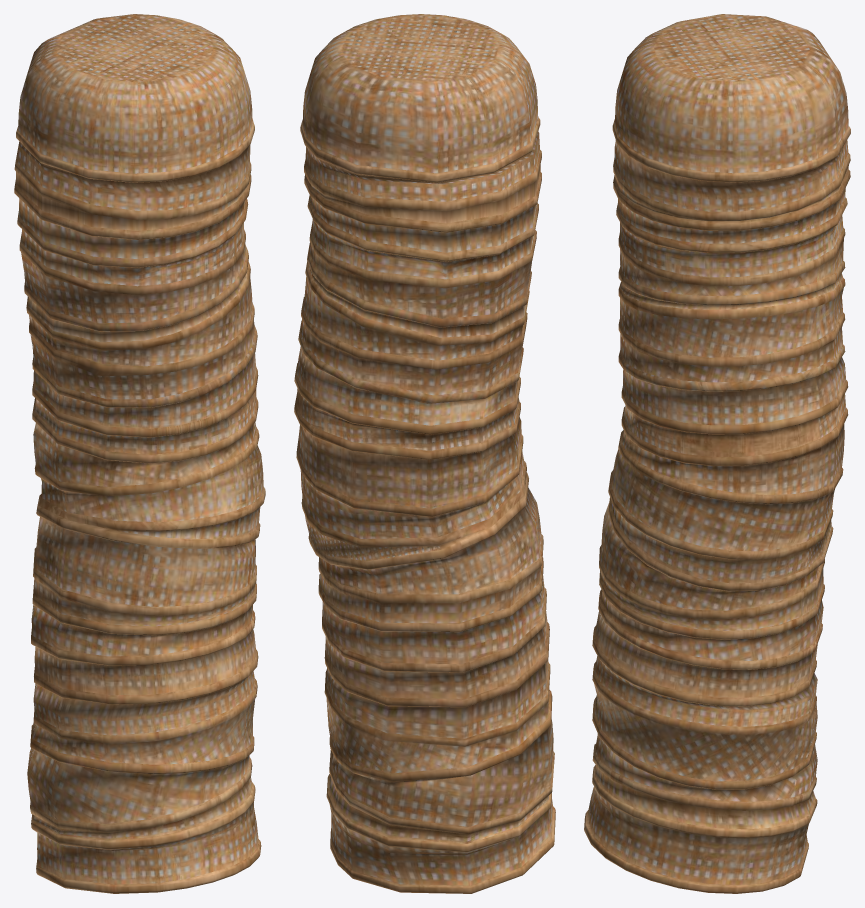
The model's file is backeta.glb.
3 renders of one model, left to right at view 1: azimuth 30°, elevation 25°; view 2: azimuth 150°, elevation 25°; view 3: azimuth 270°, elevation 25°, orthographic.
Visible parts, largest first — view 1: SM_Mado_BacketA; view 2: SM_Mado_BacketA; view 3: SM_Mado_BacketA.
Boxes of the visible parts, x1,y1,x2,y2 form: SM_Mado_BacketA: (14,14,265,893); SM_Mado_BacketA: (294,14,555,893); SM_Mado_BacketA: (584,14,850,893).
Size of the model in its own units: 0.2374 by 0.8569 by 0.2552.
1 material, 1 textured.
